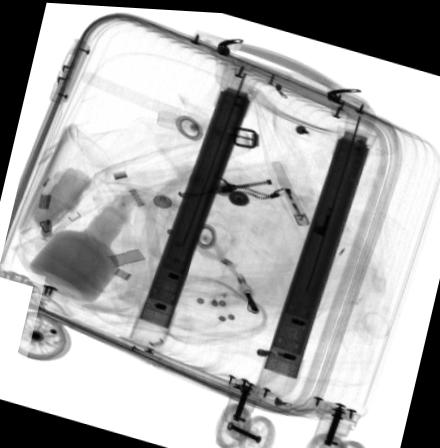Lighter: (270, 156, 310, 221)
